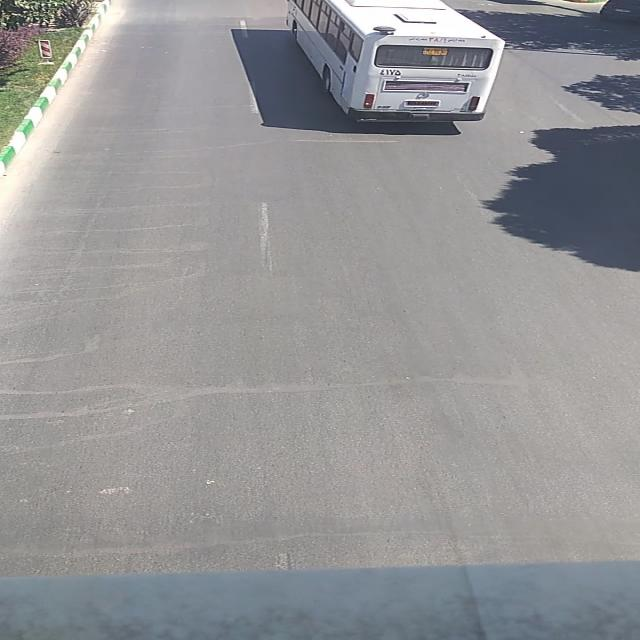bus: (285, 0, 507, 124)
